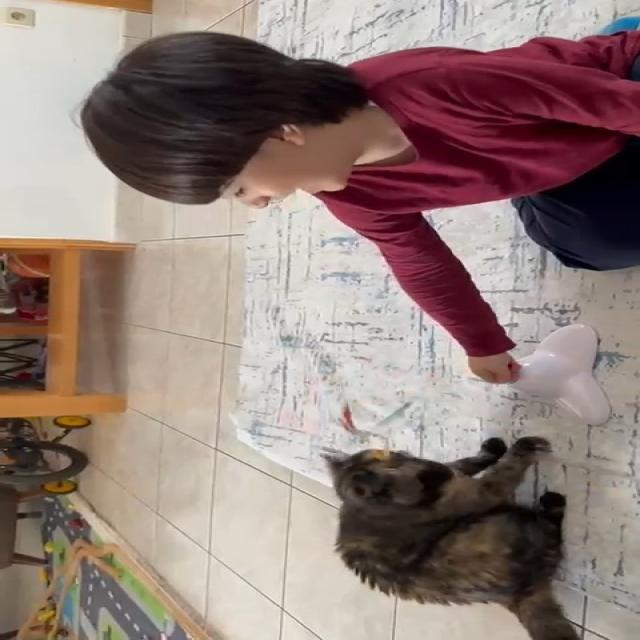authorized: (317, 435, 583, 639)
